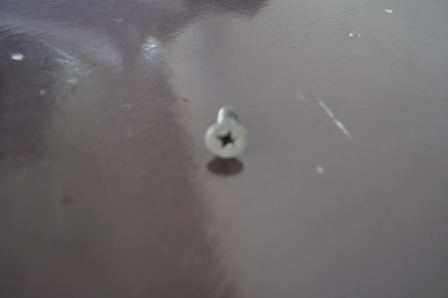NUT(AC): (205, 106, 252, 161)
